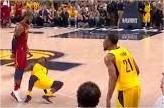bending: (97, 31, 148, 108)
down: (19, 52, 59, 108)
up: (1, 5, 35, 105)
